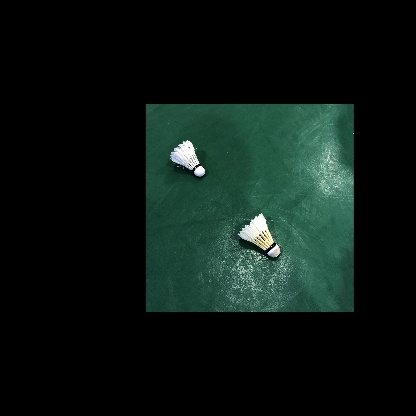ball_single: (238, 213, 280, 257), (170, 140, 205, 177)
